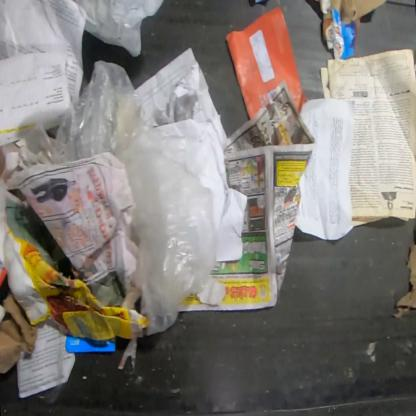cardboard: (0, 171, 148, 342), (0, 136, 138, 286), (0, 290, 39, 374), (330, 0, 388, 42), (391, 244, 415, 321), (322, 9, 355, 60)
soft_plastic: (23, 58, 219, 338)
